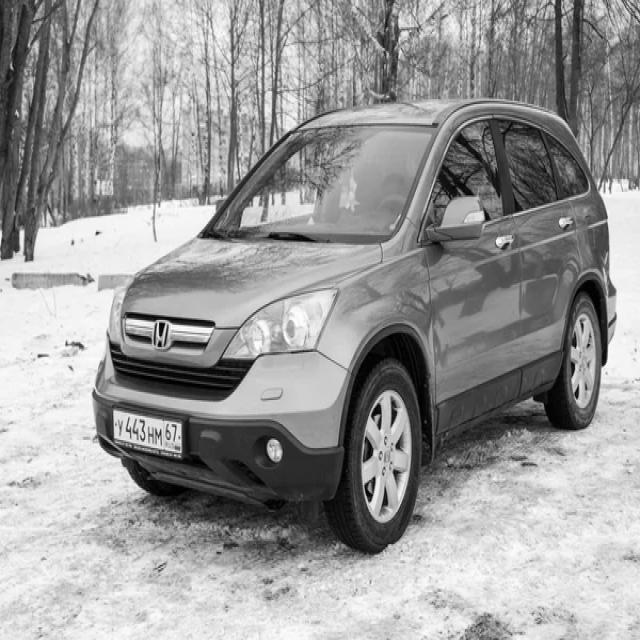Car: (92, 98, 618, 552)
Tree: (0, 0, 98, 261)
